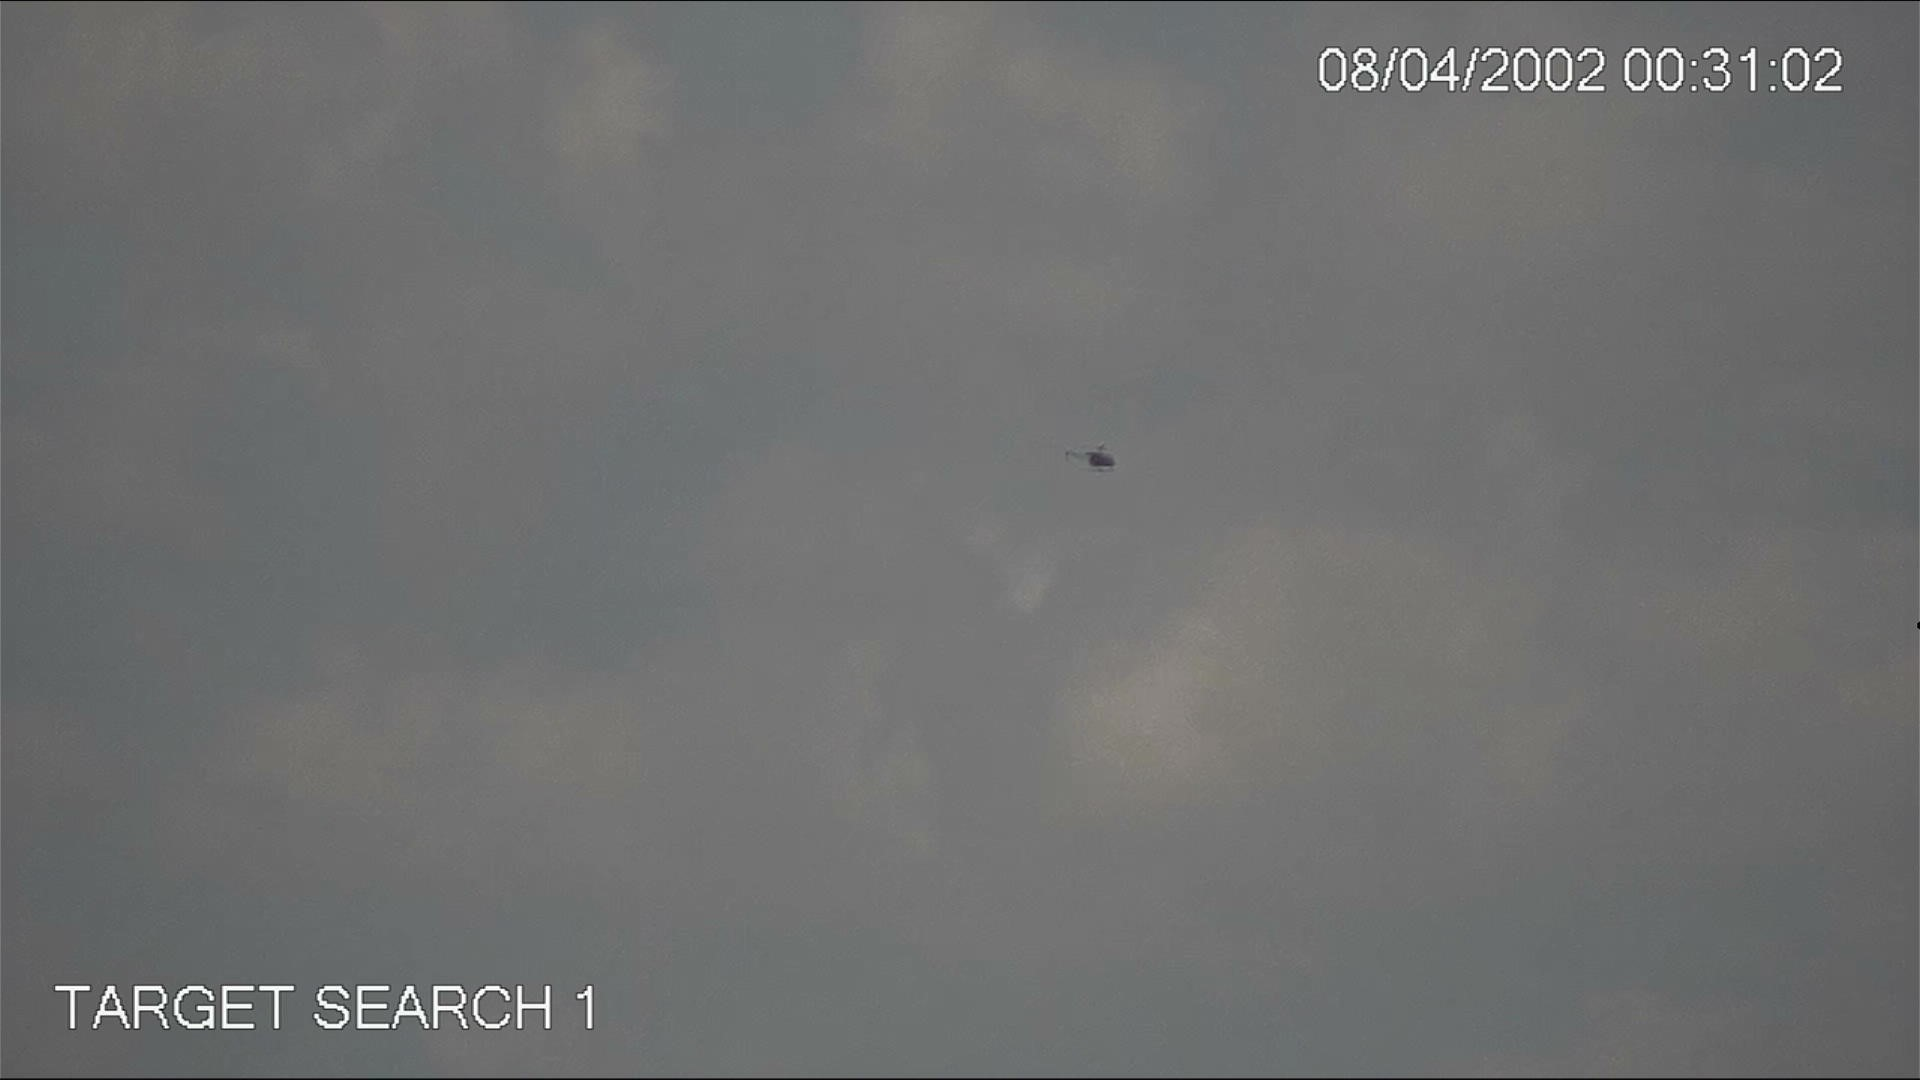SU_30: (1058, 435, 1124, 476)
